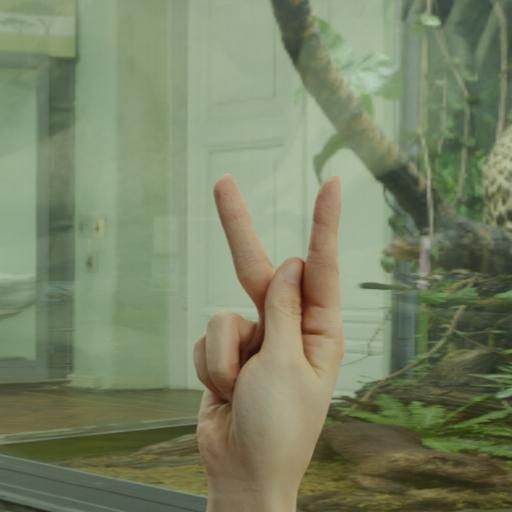K: (173, 160, 359, 512)
